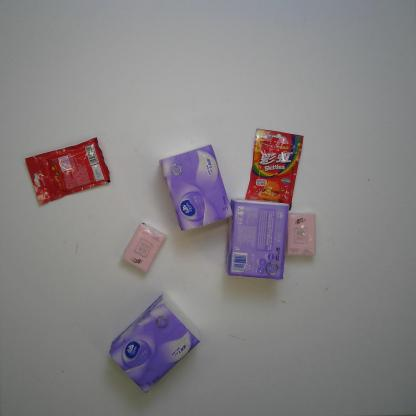Candy: (24, 136, 111, 204), (245, 126, 306, 212)
Tissue: (107, 290, 203, 394), (158, 141, 233, 233), (222, 195, 291, 283), (120, 222, 166, 272), (284, 210, 316, 258)
